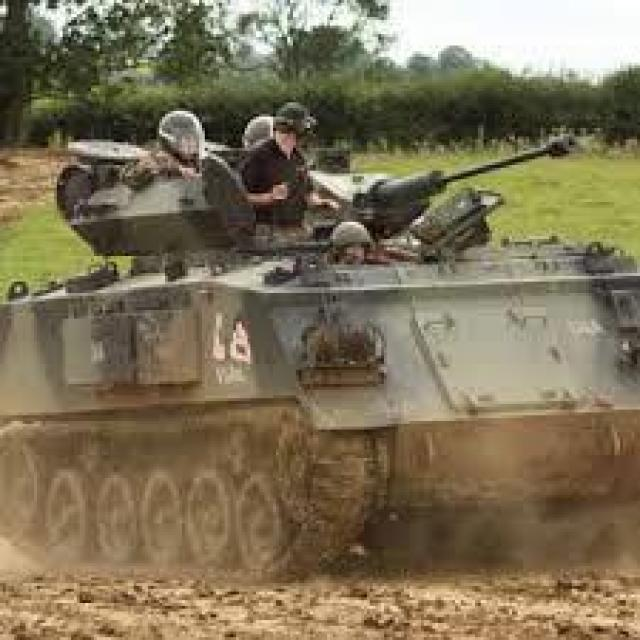Tanks: (26, 160, 572, 560)
